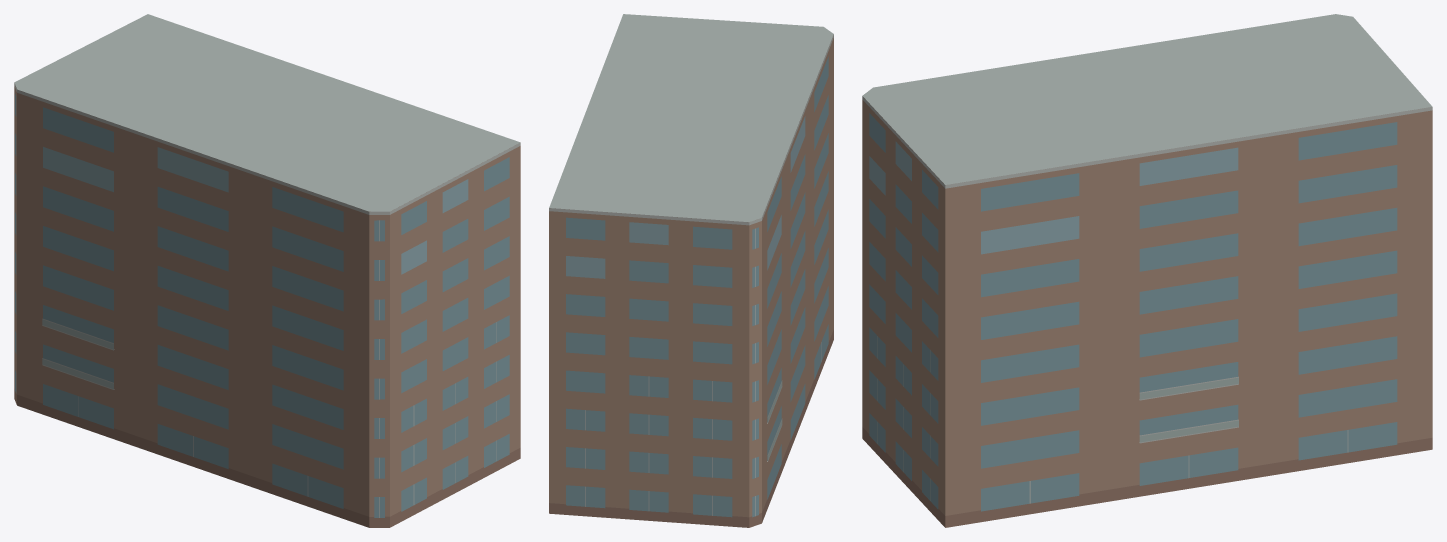
Rendered from survey-upis-32853664.glb.
3 views of the same model, side by side, from view 1: azimuth 30°, elevation 25°; view 2: azimuth 150°, elevation 25°; view 3: azimuth 270°, elevation 25° (orthographic). The views are drawn at different scales.
Parts seen in each view (by area): view 1: survey-upis-32853664.tmp; view 2: survey-upis-32853664.tmp; view 3: survey-upis-32853664.tmp.
Boxes of the visible parts, x1,y1,x2,y2 form: survey-upis-32853664.tmp: [14, 14, 520, 527]; survey-upis-32853664.tmp: [549, 14, 833, 527]; survey-upis-32853664.tmp: [862, 14, 1432, 527].
Size of the model in its own units: 25.17 by 23.5 by 35.45.
